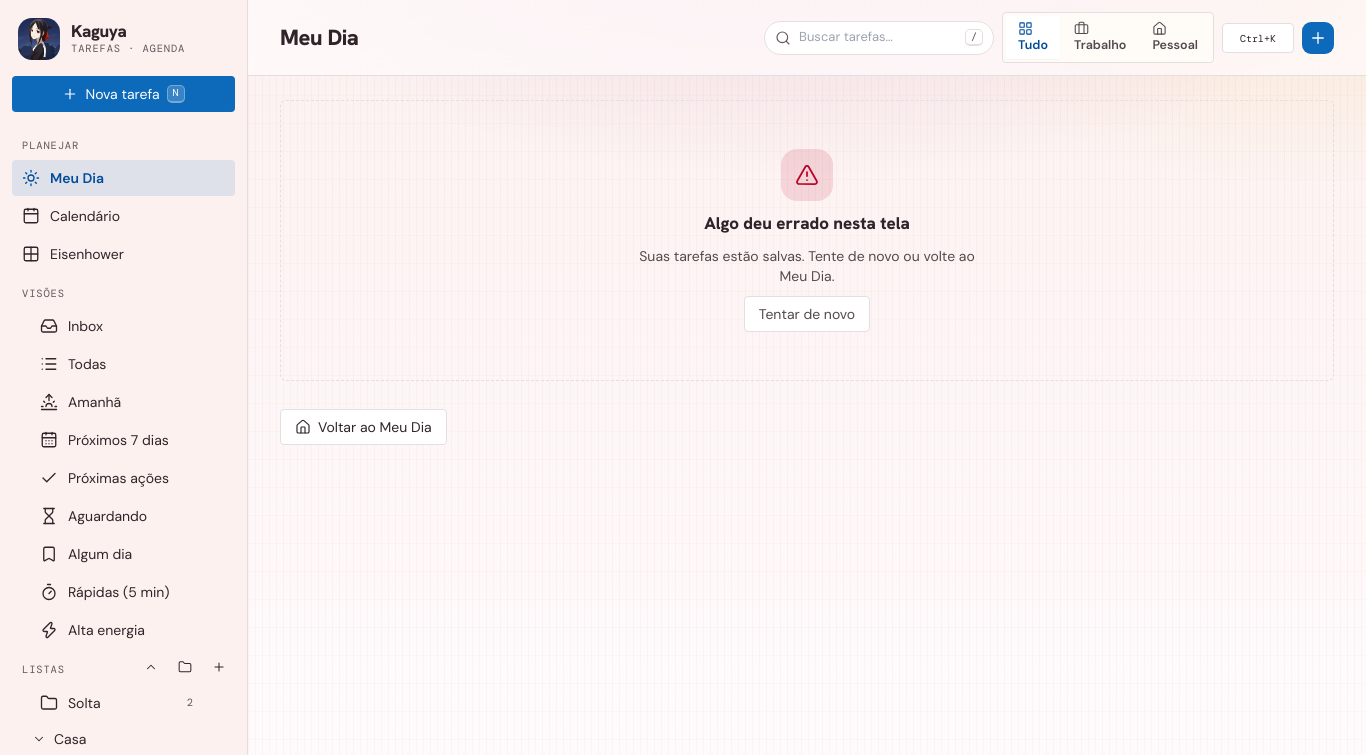
Test case: Barra lateral › recolher o grupo esconde as listas e a escolha fica salva
The image size is (1366, 755).
Expected: the text "Solta" is shown, x1=68 y1=692 x2=101 y2=713
Click the button named "Recolher Casa".
click(39, 739)  # box x1=30 y1=725 x2=48 y2=753
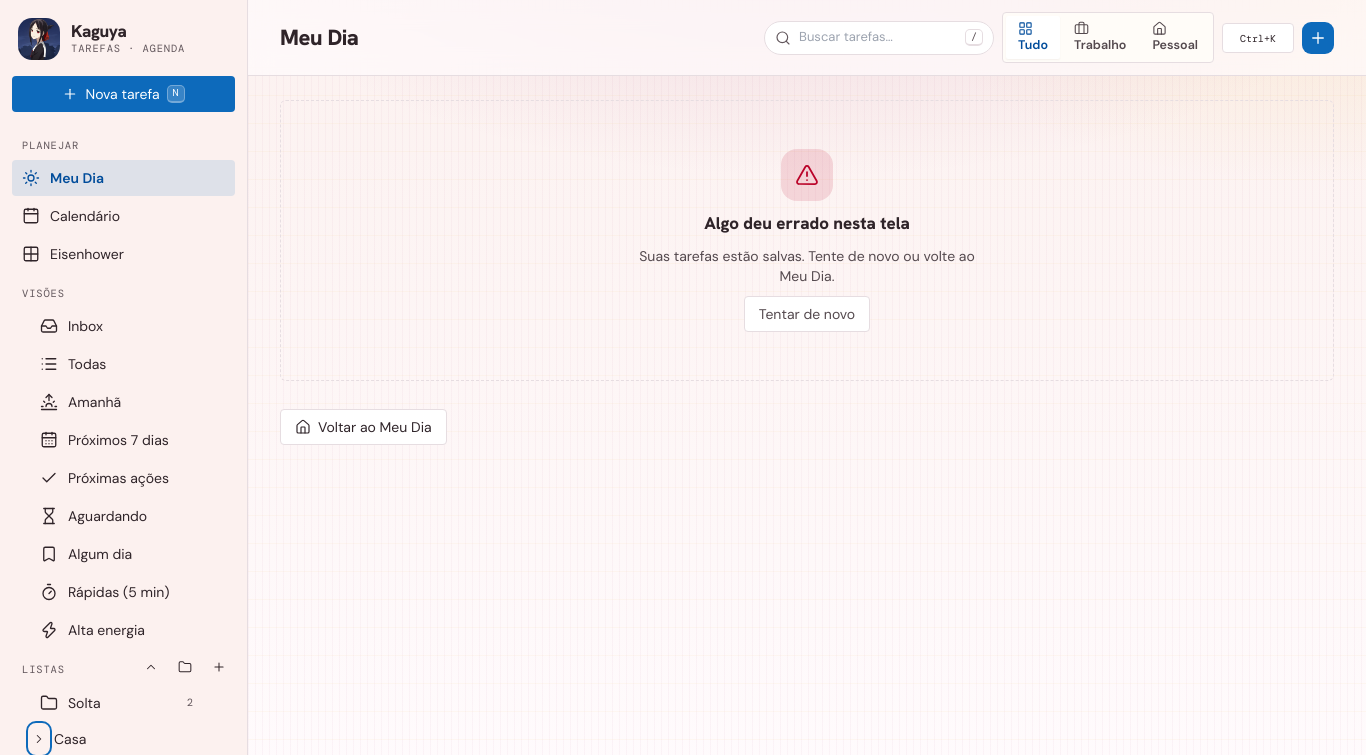
Expected: the button "Reforma" is not shown
Expected: the button named "Expandir Casa" is collapsed, x1=30 y1=725 x2=48 y2=753
